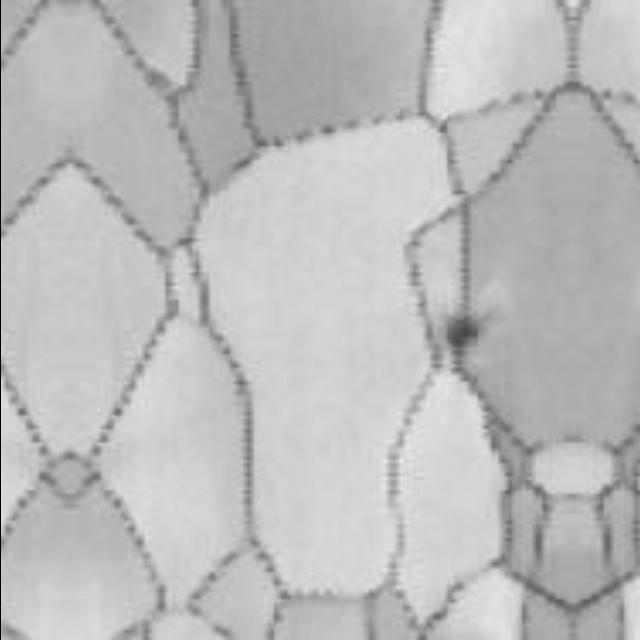good_void: (441, 313, 479, 353)
